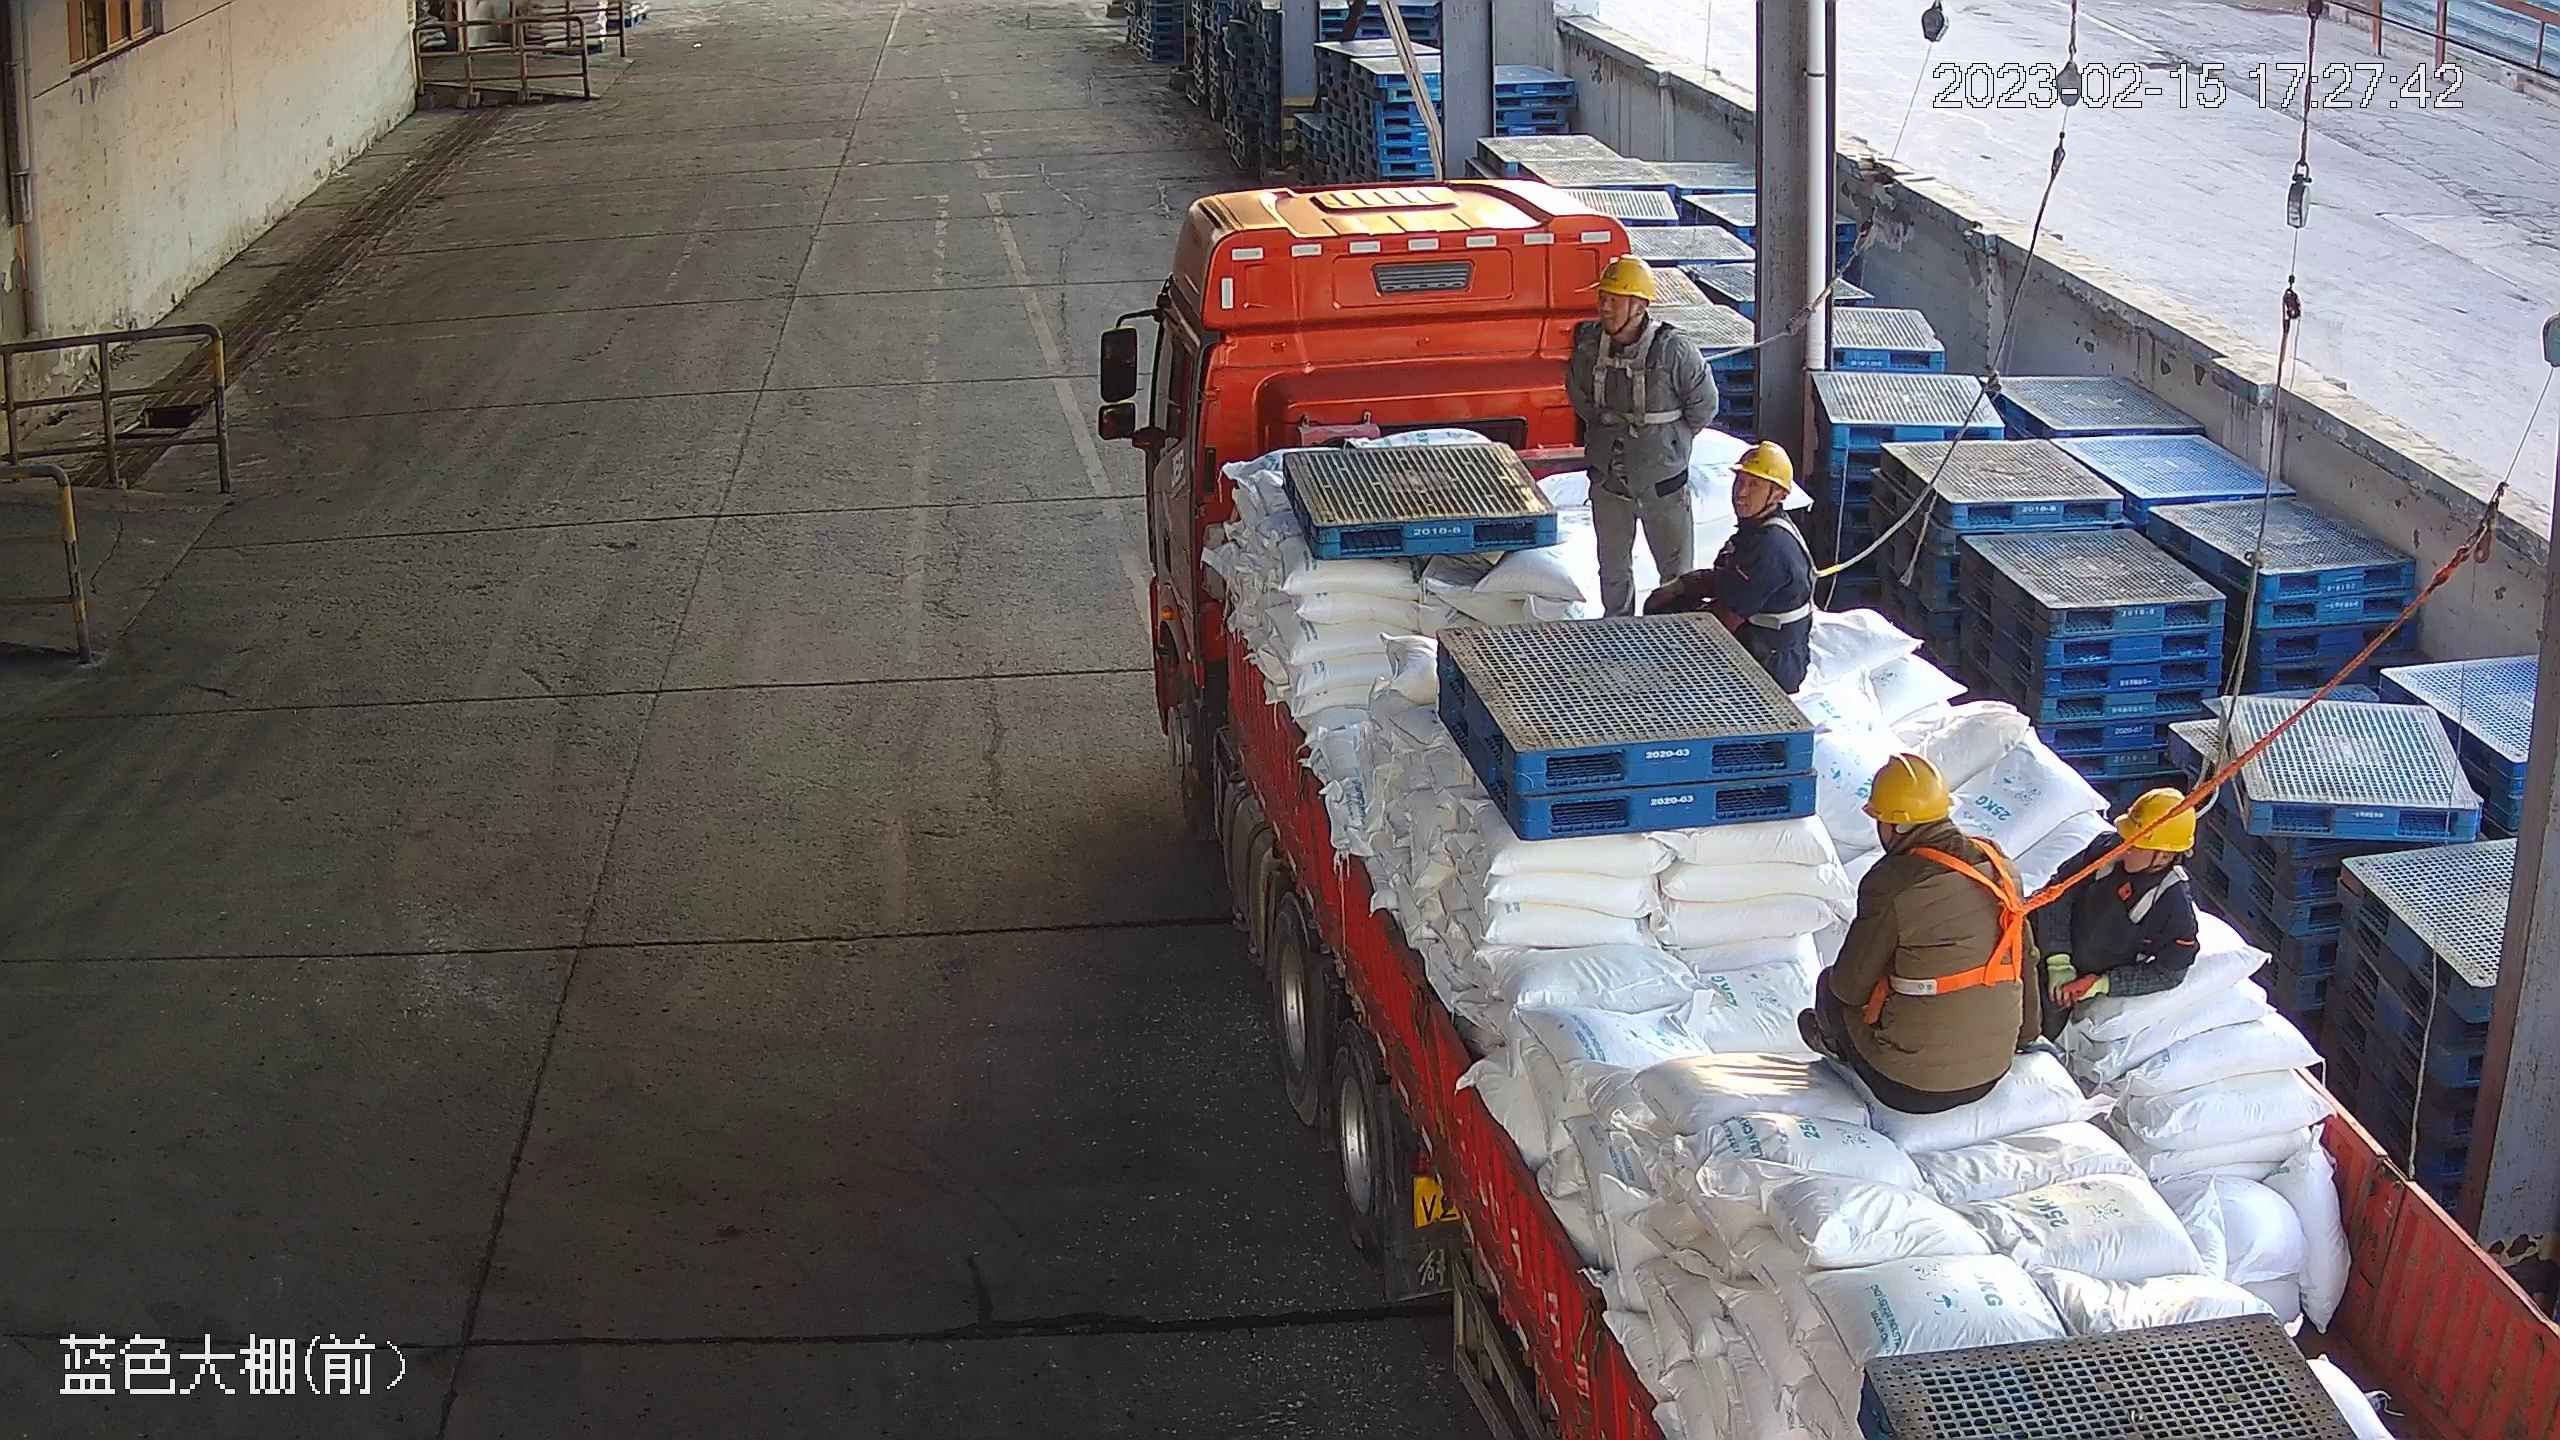belt: (1902, 844, 2068, 989), (1752, 519, 1842, 626), (1591, 340, 1680, 421), (2108, 865, 2188, 919)
head: (1861, 752, 2012, 897), (2092, 788, 2201, 909), (1582, 252, 1685, 357), (1731, 439, 1813, 571)
helmet: (1864, 749, 1952, 821), (2117, 784, 2194, 850), (1595, 255, 1656, 308), (1734, 441, 1794, 490)
people: (1796, 749, 2047, 1112), (1565, 248, 1706, 619)
truck: (1104, 179, 2560, 1440)
